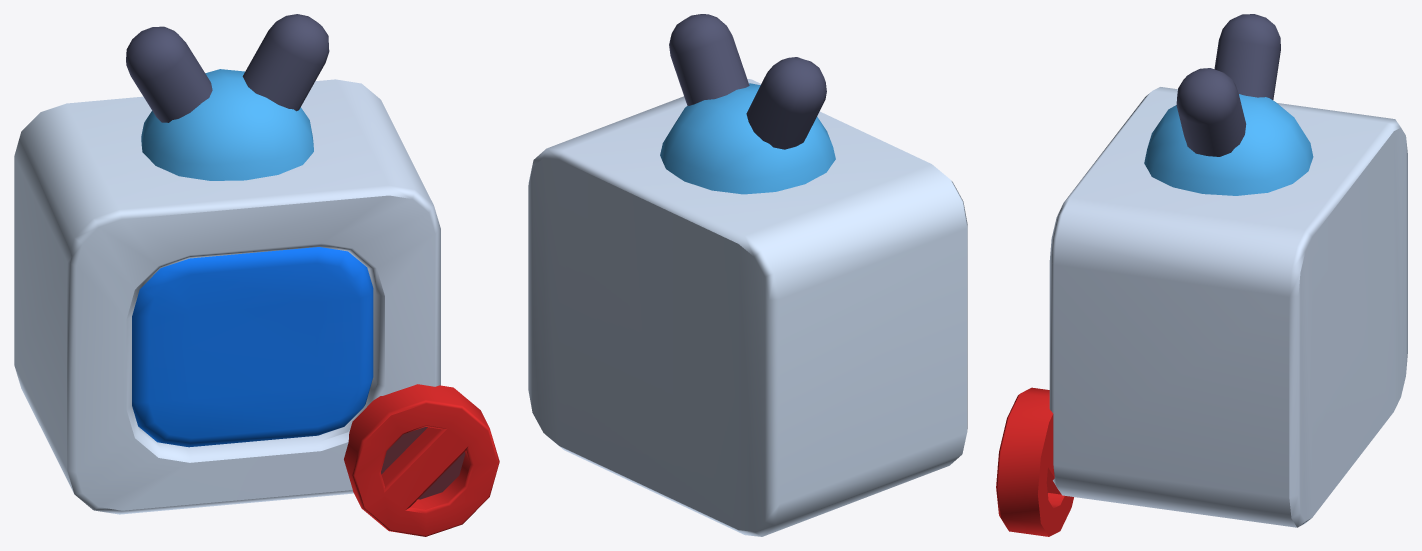
The picture shows the model from 3 angles, left to right: view 1: azimuth 30°, elevation 25°; view 2: azimuth 150°, elevation 25°; view 3: azimuth 270°, elevation 25°; orthographic projection. The views are drawn at different scales.
Parts seen in each view (by area): view 1: model_0.042; view 2: model_0.042; view 3: model_0.042.
Part boxes in pixels (left/top/right/bottom): model_0.042: left=14, top=14, right=499, bottom=536; model_0.042: left=528, top=14, right=967, bottom=536; model_0.042: left=996, top=14, right=1407, bottom=536.
Size of the model in its own units: 3.78 by 4.3 by 3.65.
